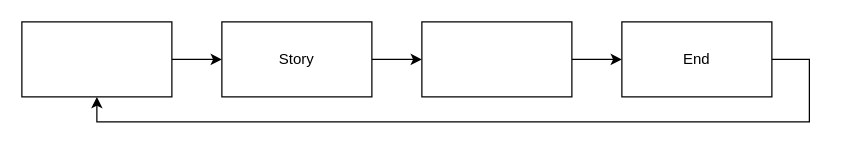
Some shapes in this 841 by 154 pixel diagram are drawn without their labels. The shapes that lost their labels are listed below. From the top down, each one's centre as x and y in pixels, then its label:
At point 96,59: "Main menu".
At point 496,59: "Game".
